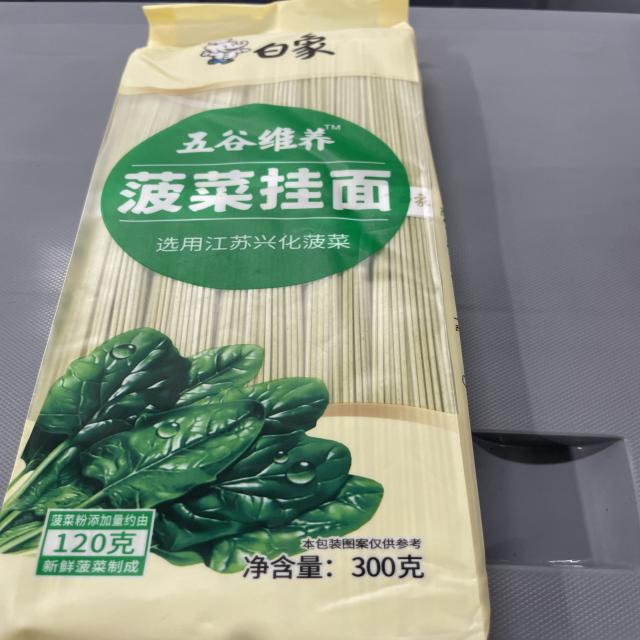object_name: (54, 1, 474, 640)
